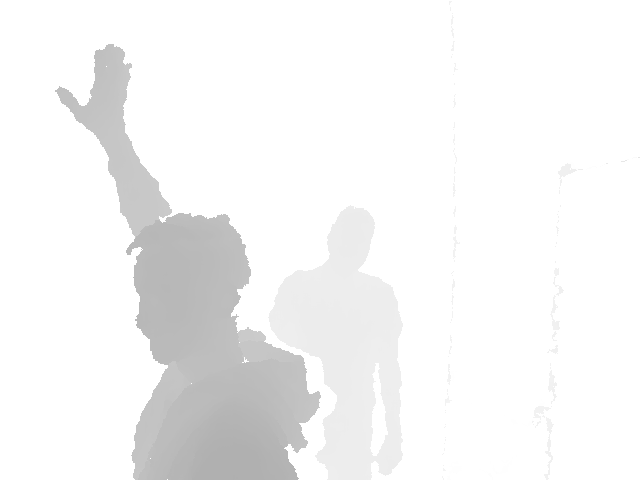hand: (53, 44, 131, 139)
head: (125, 213, 252, 369), (328, 206, 375, 274)
person: (53, 44, 322, 479), (268, 206, 405, 480)
